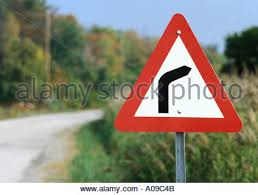Bend_to_right: (111, 11, 244, 135)
